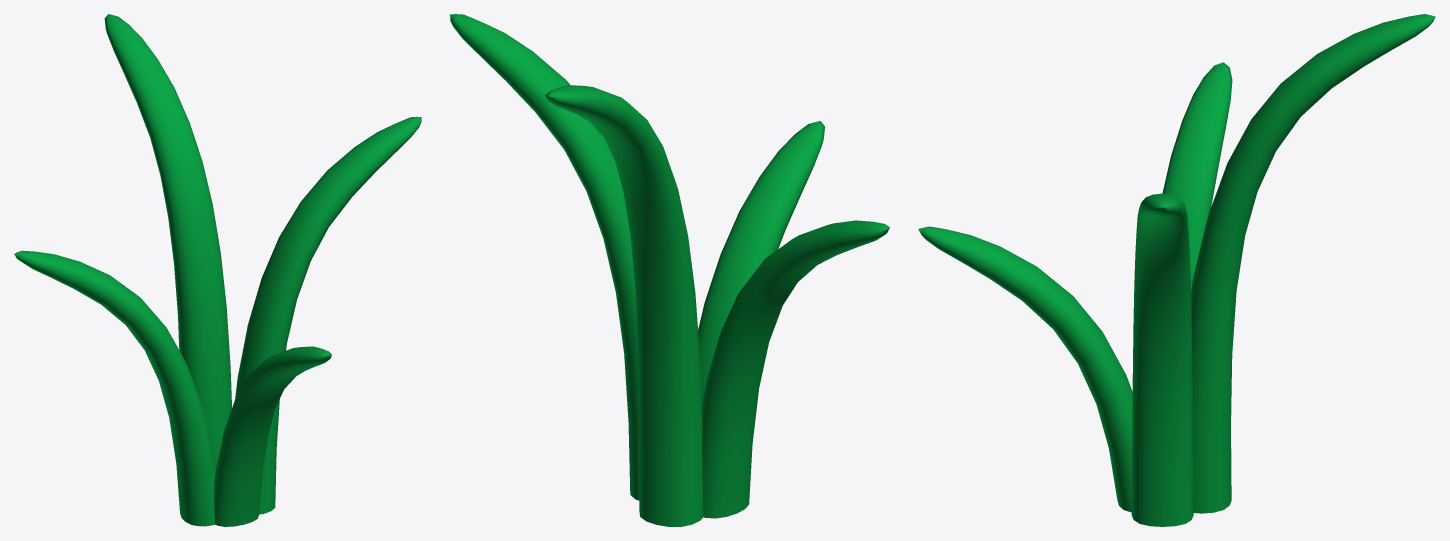
Rendered from Farm_18_Grass_1.glb.
3 views of the same model, side by side, from view 1: azimuth 30°, elevation 25°; view 2: azimuth 150°, elevation 25°; view 3: azimuth 270°, elevation 25° (orthographic). The views are drawn at different scales.
Parts seen in each view (by area): view 1: Farm_18_Grass_1; view 2: Farm_18_Grass_1; view 3: Farm_18_Grass_1.
Part boxes in pixels (x1=…): Farm_18_Grass_1: x1=14, y1=14, x2=421, y2=526; Farm_18_Grass_1: x1=450, y1=14, x2=889, y2=526; Farm_18_Grass_1: x1=918, y1=14, x2=1435, y2=526.
Size of the model in its own units: 0.6438 by 0.6657 by 0.6431.
1 material, 1 textured.
